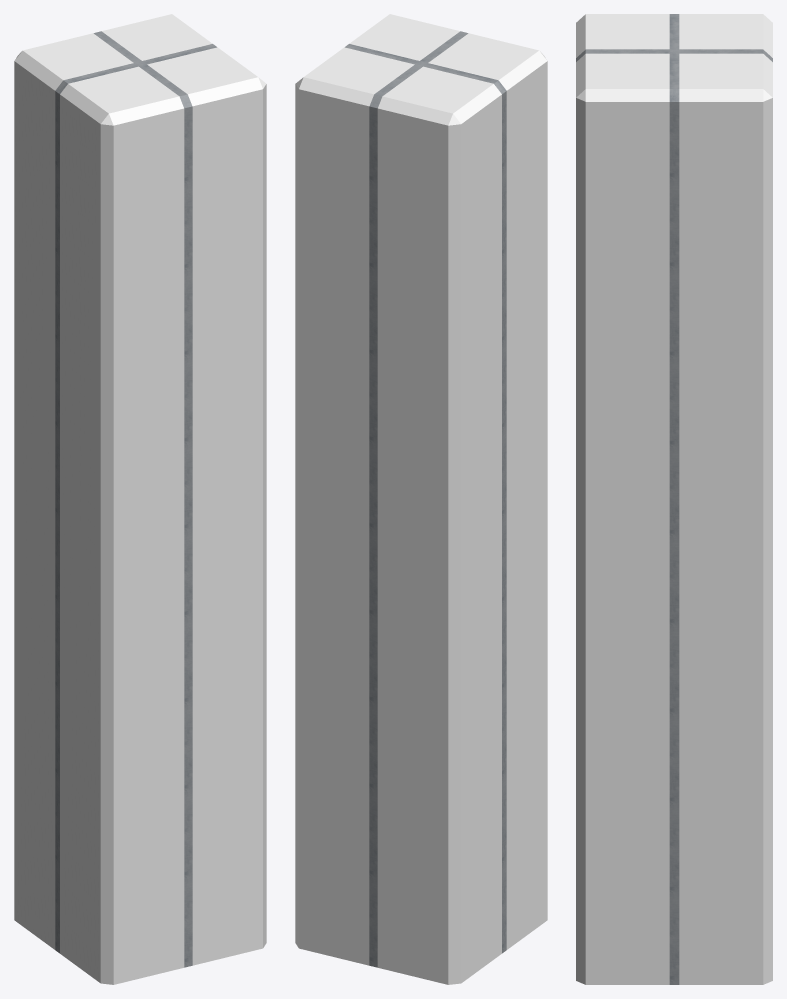
File: Thresher-Room-Pillar-1-End.obj
3 views of the same model, side by side, from view 1: azimuth 30°, elevation 25°; view 2: azimuth 150°, elevation 25°; view 3: azimuth 270°, elevation 25° (orthographic). The views are drawn at different scales.
Visible parts, largest first — view 1: Thresher-Room-Pillar-1-End; view 2: Thresher-Room-Pillar-1-End; view 3: Thresher-Room-Pillar-1-End.
Part boxes in pixels (x1,y1,x2,y2): Thresher-Room-Pillar-1-End: (14, 14, 266, 984); Thresher-Room-Pillar-1-End: (295, 14, 547, 984); Thresher-Room-Pillar-1-End: (576, 14, 772, 984).
Size of the model in its own units: 2 by 10 by 2.
